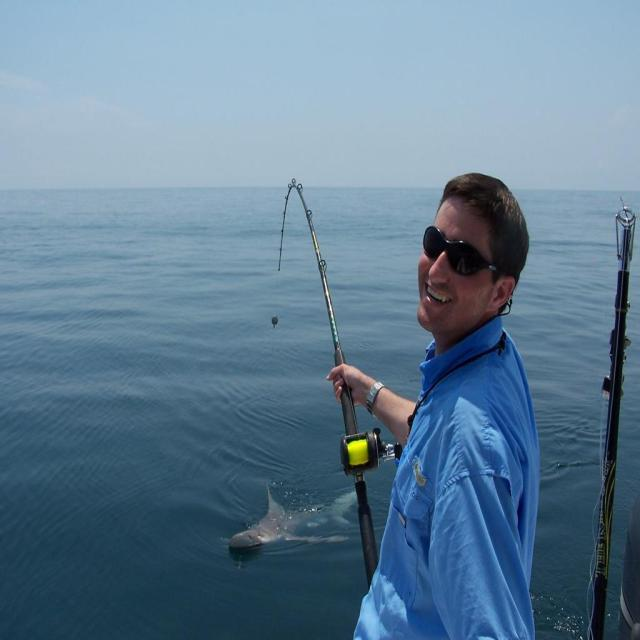Face: (414, 185, 508, 336)
